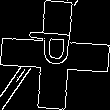P_E: (28, 34, 82, 76)
